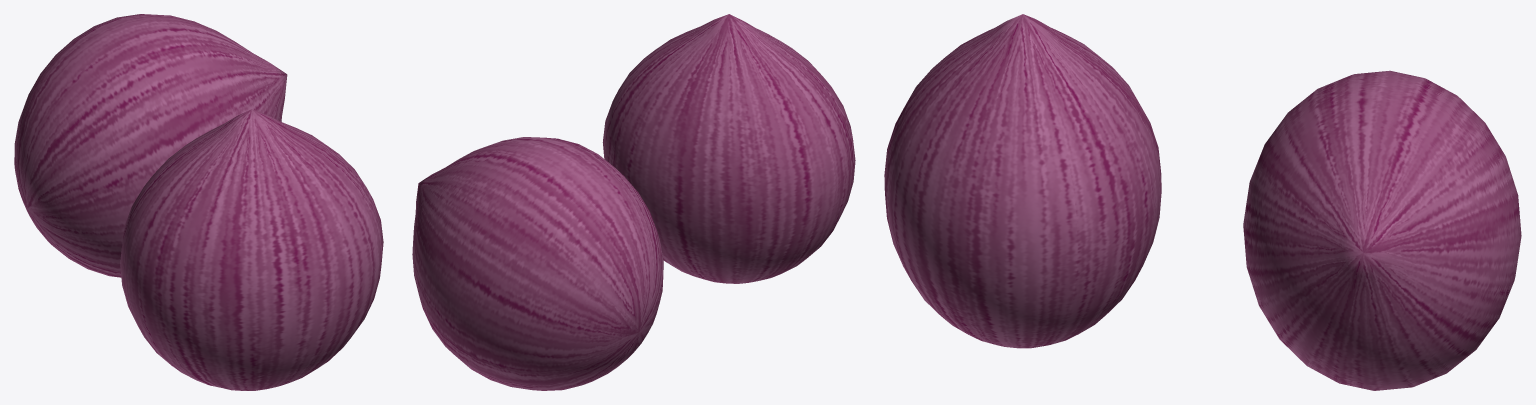
Rendered from PR_onionLarge_01.fbx.
3 renders of one model, left to right at view 1: azimuth 30°, elevation 25°; view 2: azimuth 150°, elevation 25°; view 3: azimuth 270°, elevation 25°, orthographic. The views are drawn at different scales.
Parts seen in each view (by area): view 1: onionLarge2, onionLarge; view 2: onionLarge, onionLarge2; view 3: onionLarge2, onionLarge.
Boxes of the visible parts, x1,y1,x2,y2 form: onionLarge2: (120, 109, 383, 390); onionLarge: (14, 14, 287, 277); onionLarge: (412, 137, 663, 390); onionLarge2: (602, 14, 855, 283); onionLarge2: (884, 14, 1161, 348); onionLarge: (1243, 70, 1521, 390).
Size of the model in its own units: 2139 by 1951 by 3369.
Materials: 1 (1 with a texture image).
